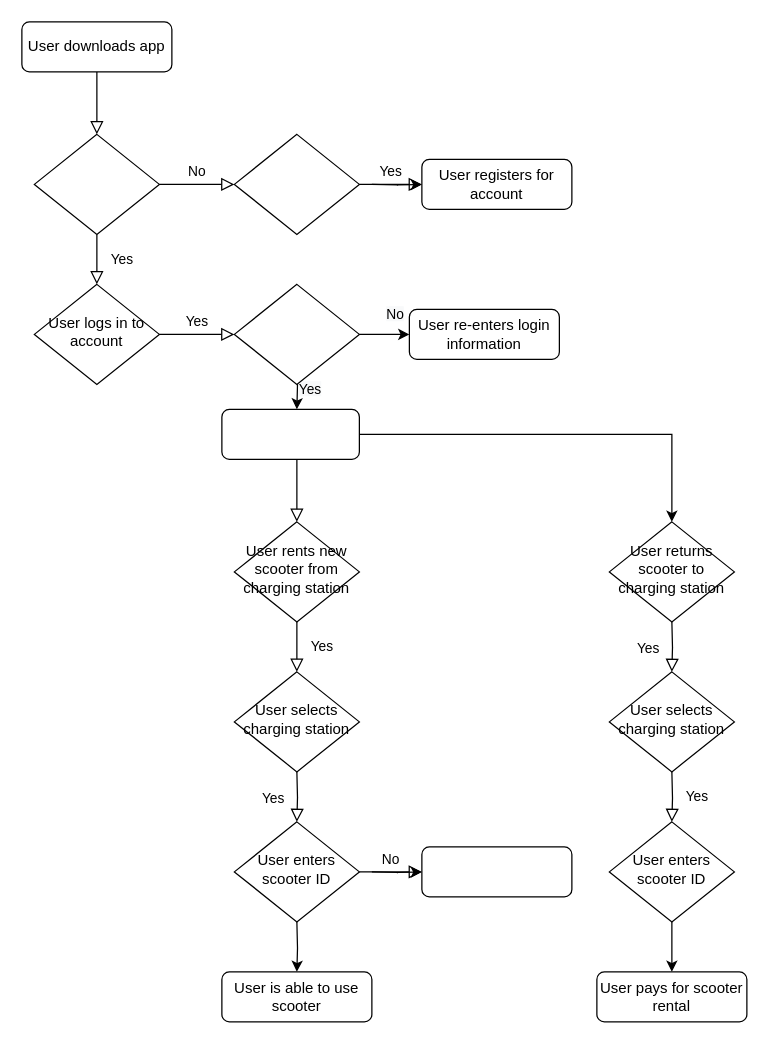
The diagram is 769 pixels wide and 1044 high, and some of its shapes have lost their labels. Here are the shapes that lost their labels. From the top down, the centre of each, then its label:
pixel 96 183: User has account
pixel 296 183: User is 18+
pixel 296 333: User authenticates
pixel 290 433: User is redirected to home screen
pixel 496 871: Scooter is still charging (2hr)
